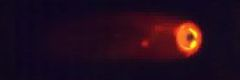keyhole: (185, 30, 196, 43)
